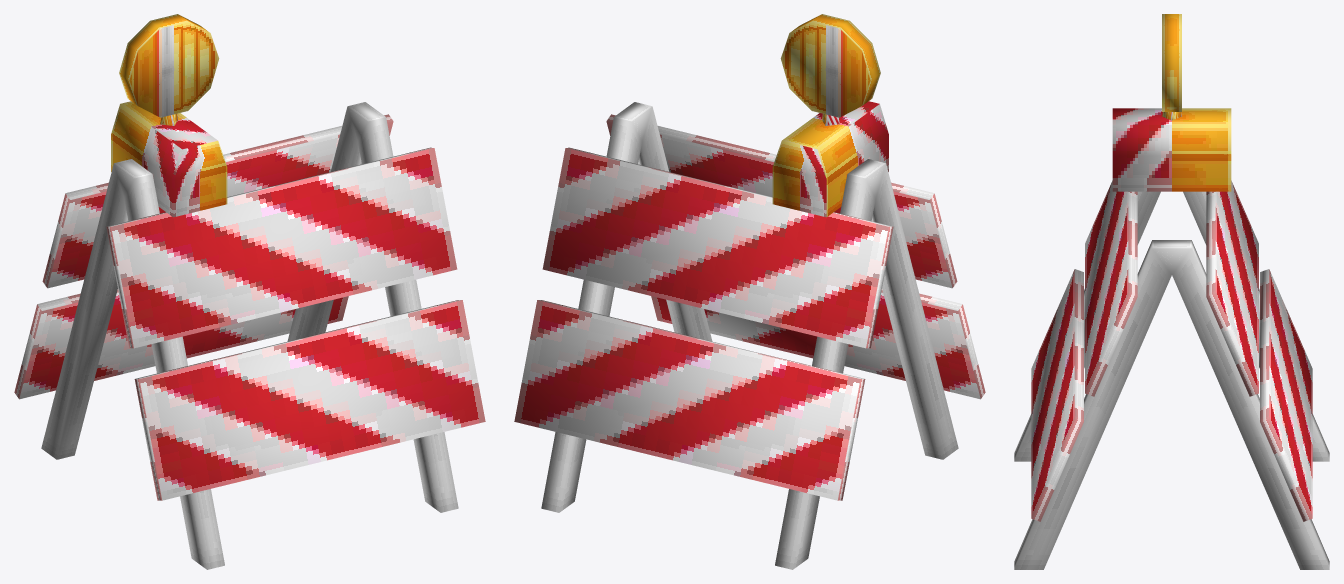
The model's file is int_csx_sawhorse.dae.
The picture shows the model from 3 angles, left to right: view 1: azimuth 30°, elevation 25°; view 2: azimuth 150°, elevation 25°; view 3: azimuth 270°, elevation 25°; orthographic projection. The views are drawn at different scales.
Visible parts, largest first — view 1: int_csx_sawhorse; view 2: int_csx_sawhorse; view 3: int_csx_sawhorse.
Part boxes in pixels (x1,y1,x2,y2): int_csx_sawhorse: (14,14,485,569); int_csx_sawhorse: (514,14,985,569); int_csx_sawhorse: (1014,14,1329,569).
Size of the model in its own units: 28.8 by 40.6 by 25.6.
1 material, 1 textured.
